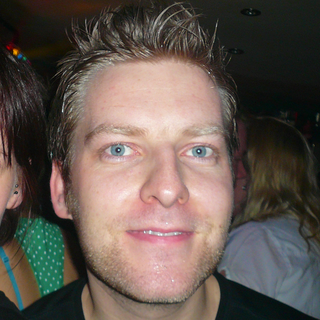eye: (97, 140, 144, 164), (177, 141, 221, 164)
